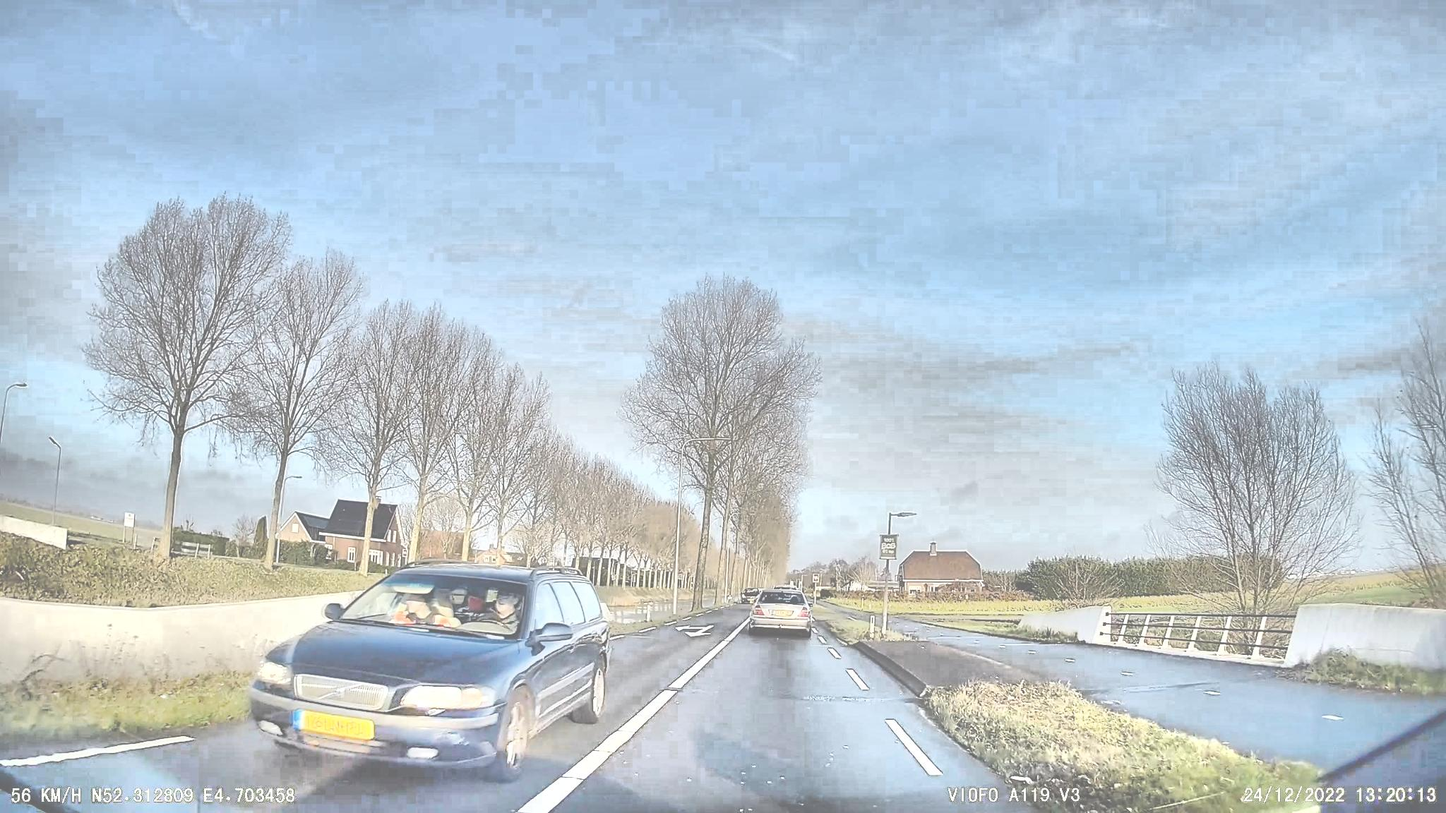Roads: (0, 606, 1041, 813)
